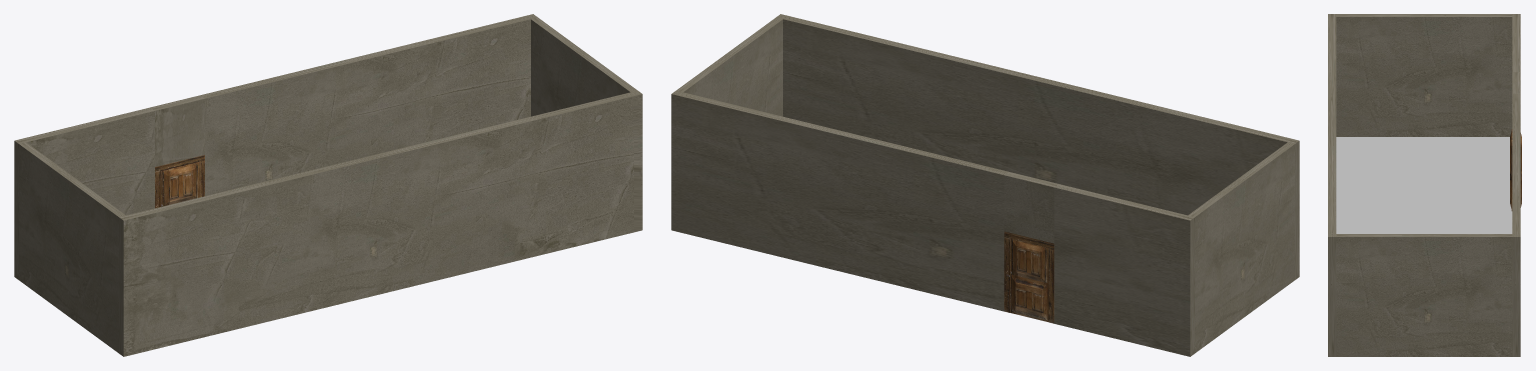
The model's file is Room2.f.fbx.
3 views of the same model, side by side, from view 1: azimuth 30°, elevation 25°; view 2: azimuth 150°, elevation 25°; view 3: azimuth 270°, elevation 25° (orthographic). The views are drawn at different scales.
Visible parts, largest first — view 1: wall.010, wall.008, wall.011, wall.013, Cube.037, Cube.036; view 2: wall.008, wall.010, wall.011, wall.013, Cube.038, Cube.036; view 3: wall.013, wall.011, Plane.008, wall.008, wall.010, Cube.037.
Part boxes in pixels (x1=…): wall.010: x1=119, y1=90, x2=642, y2=356; wall.008: x1=14, y1=14, x2=537, y2=279; wall.011: x1=19, y1=142, x2=125, y2=353; wall.013: x1=531, y1=17, x2=637, y2=116; Cube.037: x1=160, y1=162, x2=199, y2=206; Cube.036: x1=155, y1=155, x2=204, y2=208; wall.008: x1=671, y1=90, x2=1194, y2=356; wall.010: x1=776, y1=14, x2=1299, y2=279; wall.011: x1=1188, y1=142, x2=1294, y2=353; wall.013: x1=676, y1=17, x2=782, y2=116; Cube.038: x1=1010, y1=238, x2=1048, y2=321; Cube.036: x1=1004, y1=231, x2=1054, y2=323; wall.013: x1=1336, y1=234, x2=1512, y2=356; wall.011: x1=1336, y1=14, x2=1512, y2=136; Plane.008: x1=1336, y1=137, x2=1512, y2=233; wall.008: x1=1512, y1=14, x2=1520, y2=356; wall.010: x1=1328, y1=14, x2=1336, y2=356; Cube.037: x1=1510, y1=129, x2=1512, y2=210.
Bounding box in the file's own units: 3505 × 880 × 1287.
